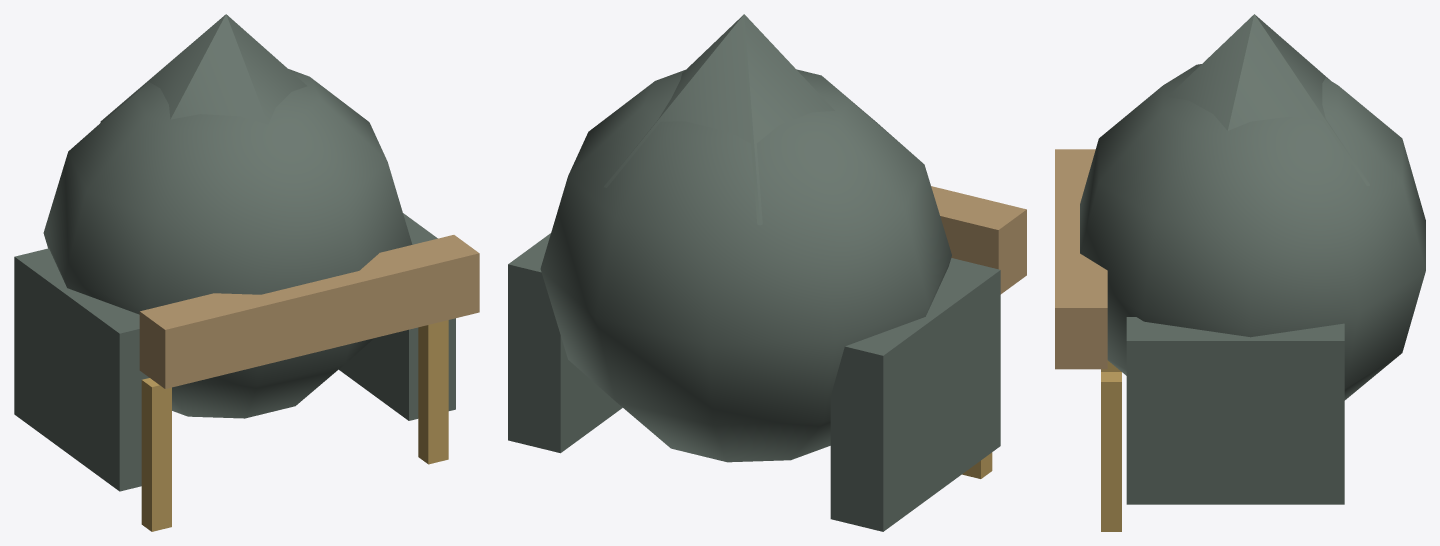
Rendered from fixed-cap.glb.
The picture shows the model from 3 angles, left to right: view 1: azimuth 30°, elevation 25°; view 2: azimuth 150°, elevation 25°; view 3: azimuth 270°, elevation 25°; orthographic projection. The views are drawn at different scales.
Parts seen in each view (by area): view 1: piece_hood; view 2: piece_hood; view 3: piece_hood.
Boxes of the visible parts, x1=… form: piece_hood: x1=14, y1=14, x2=479, y2=531; piece_hood: x1=508, y1=14, x2=1026, y2=531; piece_hood: x1=1055, y1=14, x2=1425, y2=531.
Bounding box in the file's own units: 0.535 × 0.65 × 0.493.
